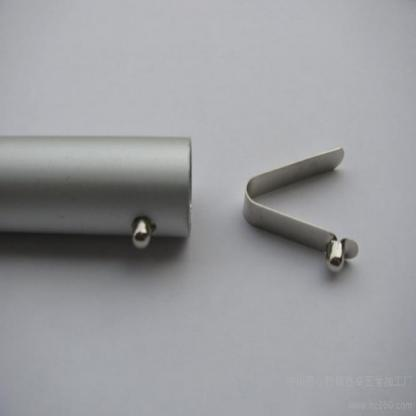FOD: (240, 146, 359, 271)
